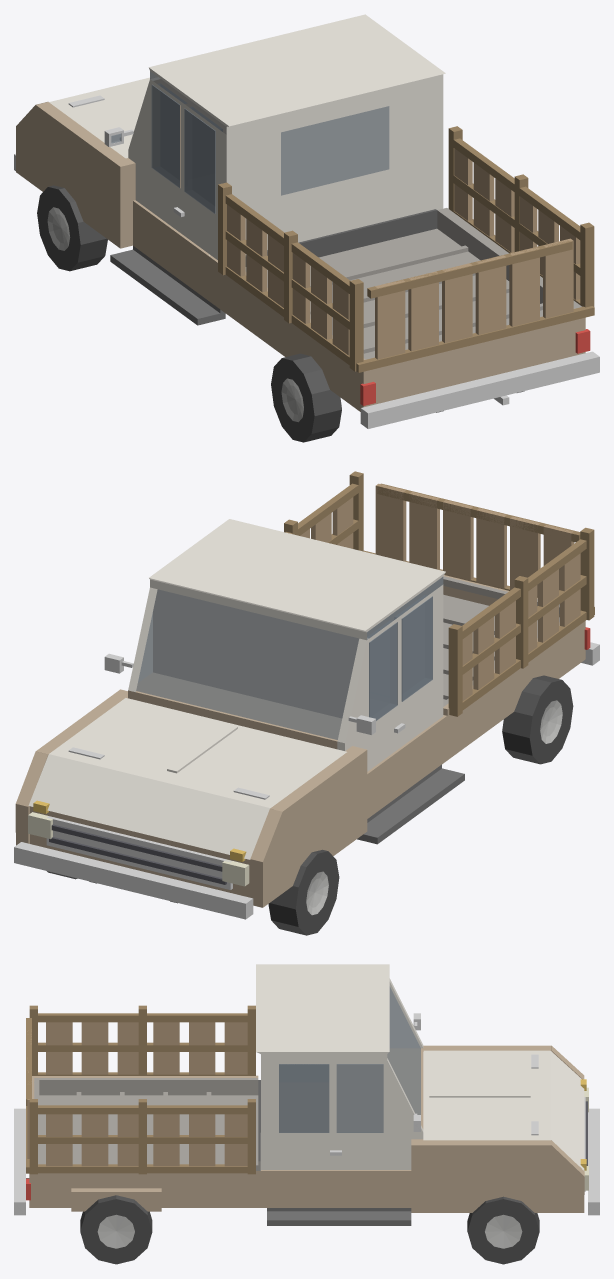
File: truck1 1.fbx
3 views of the same model, one above another, from view 1: azimuth 30°, elevation 25°; view 2: azimuth 150°, elevation 25°; view 3: azimuth 270°, elevation 25° (orthographic). The views are drawn at different scales.
Visible parts, largest first — view 1: truck, tire1.001, tire1; view 2: truck, tire1.001, tire1; view 3: truck, tire3, tire2.
Part boxes in pixels (left/top/right/bottom): truck: left=14, top=14, right=599, bottom=428; tire1.001: left=271, top=353, right=341, bottom=442; tire1: left=37, top=185, right=107, bottom=271; truck: left=14, top=471, right=599, bottom=919; tire1.001: left=502, top=675, right=573, bottom=764; tire1: left=268, top=849, right=339, bottom=935; truck: left=14, top=964, right=599, bottom=1225; tire3: left=80, top=1195, right=152, bottom=1264; tire2: left=467, top=1196, right=539, bottom=1264.
Size of the model in its own units: 212 by 187 by 487.
